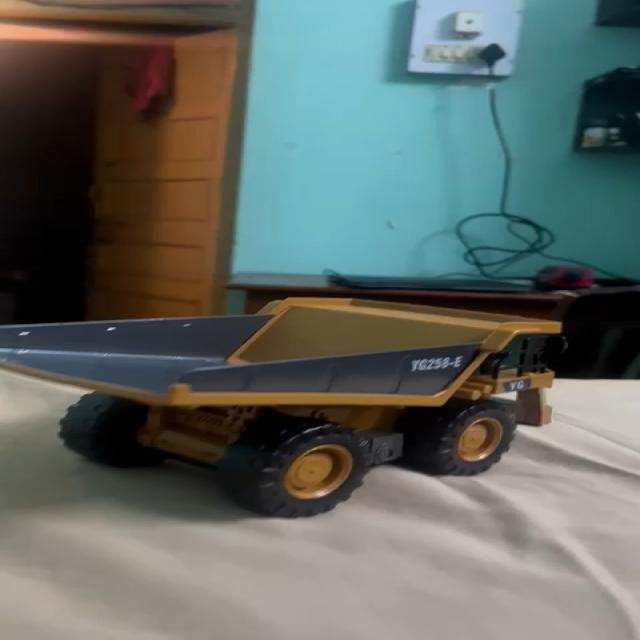dump_truck: (0, 294, 580, 497)
